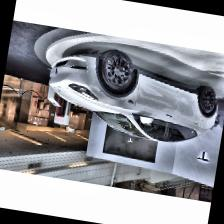EV: (42, 42, 224, 157)
